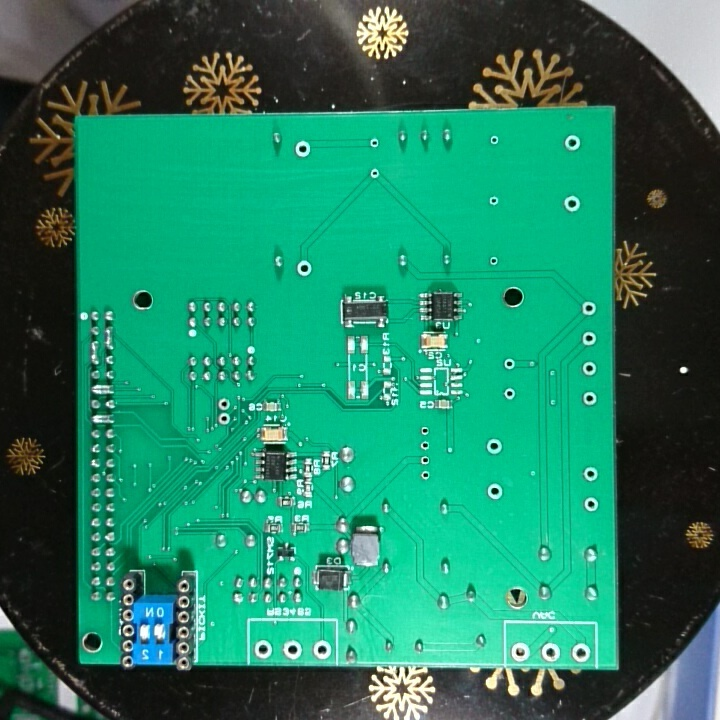F: (568, 640, 594, 664), (279, 637, 304, 660), (483, 480, 507, 503), (559, 193, 584, 215), (562, 131, 584, 155), (252, 637, 274, 660), (509, 640, 531, 663), (539, 640, 561, 663), (483, 435, 505, 457), (579, 297, 599, 320), (311, 638, 332, 659), (580, 464, 602, 484), (579, 388, 599, 409), (579, 358, 599, 379), (293, 139, 313, 160), (500, 383, 520, 403), (294, 258, 314, 278), (582, 494, 601, 515), (579, 329, 599, 347), (499, 355, 519, 373), (485, 192, 502, 211), (215, 410, 232, 428), (486, 132, 503, 149), (216, 395, 233, 412), (366, 134, 383, 151), (417, 452, 434, 468), (486, 253, 502, 269), (417, 468, 434, 483), (417, 421, 432, 438), (367, 165, 382, 182), (418, 438, 433, 452)
P: (101, 323, 117, 352), (88, 381, 116, 397), (87, 337, 102, 366), (89, 412, 116, 426)
